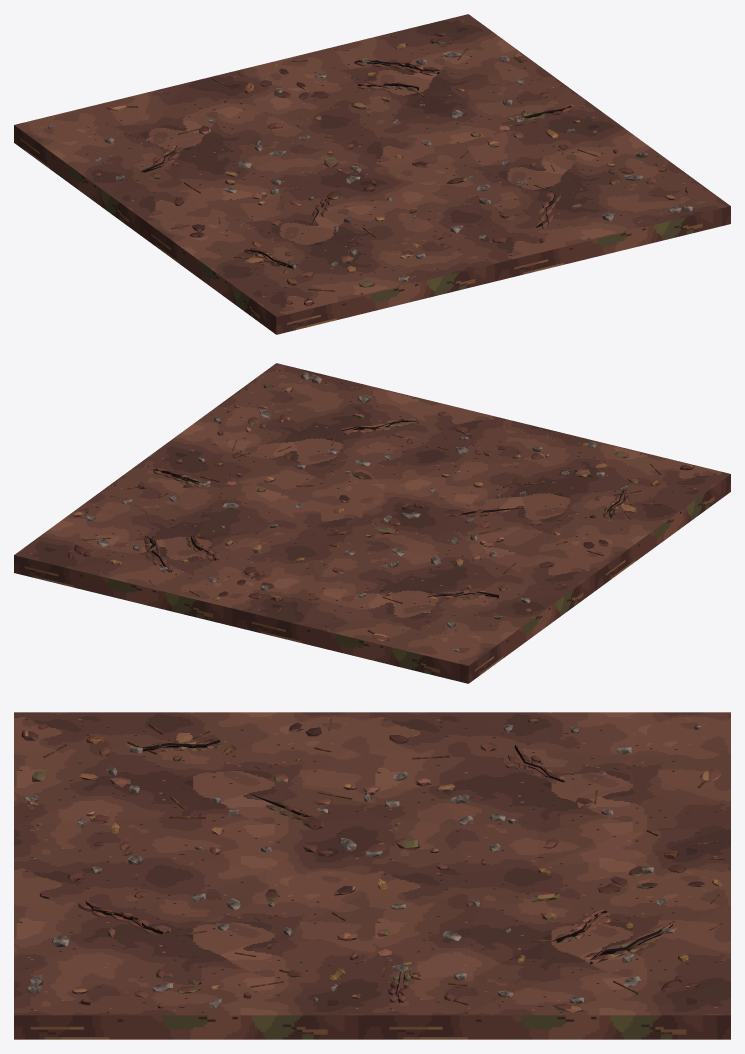
Rendered from SM_AN06_EarthFloor.fbx.
The picture shows the model from 3 angles, top to bottom: view 1: azimuth 30°, elevation 25°; view 2: azimuth 150°, elevation 25°; view 3: azimuth 270°, elevation 25°; orthographic projection. The views are drawn at different scales.
Parts seen in each view (by area): view 1: AN06a_Floor, AN06a_Earth, AN06a_Props; view 2: AN06a_Floor, AN06a_Earth, AN06a_Props; view 3: AN06a_Floor, AN06a_Earth, AN06a_Props.
Part boxes in pixels (bbox=[...]): AN06a_Floor: bbox=[14, 14, 730, 316]; AN06a_Earth: bbox=[14, 32, 730, 334]; AN06a_Props: bbox=[48, 43, 692, 291]; AN06a_Floor: bbox=[14, 363, 730, 665]; AN06a_Earth: bbox=[14, 383, 730, 683]; AN06a_Props: bbox=[83, 371, 661, 651]; AN06a_Floor: bbox=[14, 712, 730, 1015]; AN06a_Earth: bbox=[14, 718, 730, 1039]; AN06a_Props: bbox=[24, 718, 724, 1008].
Bounding box in the file's own units: 4 × 0.1989 × 4.
